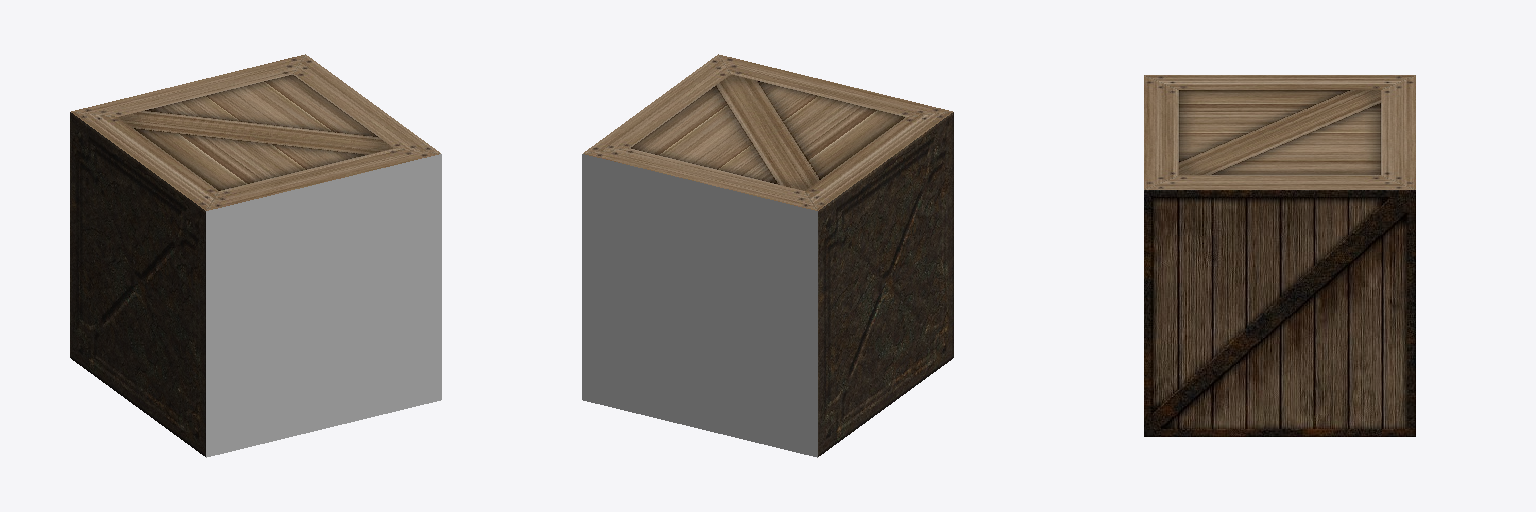
3 views of the same model, side by side, from view 1: azimuth 30°, elevation 25°; view 2: azimuth 150°, elevation 25°; view 3: azimuth 270°, elevation 25° (orthographic).
Size of the model in its own units: 2 by 2 by 2.
6 materials, 3 textured.